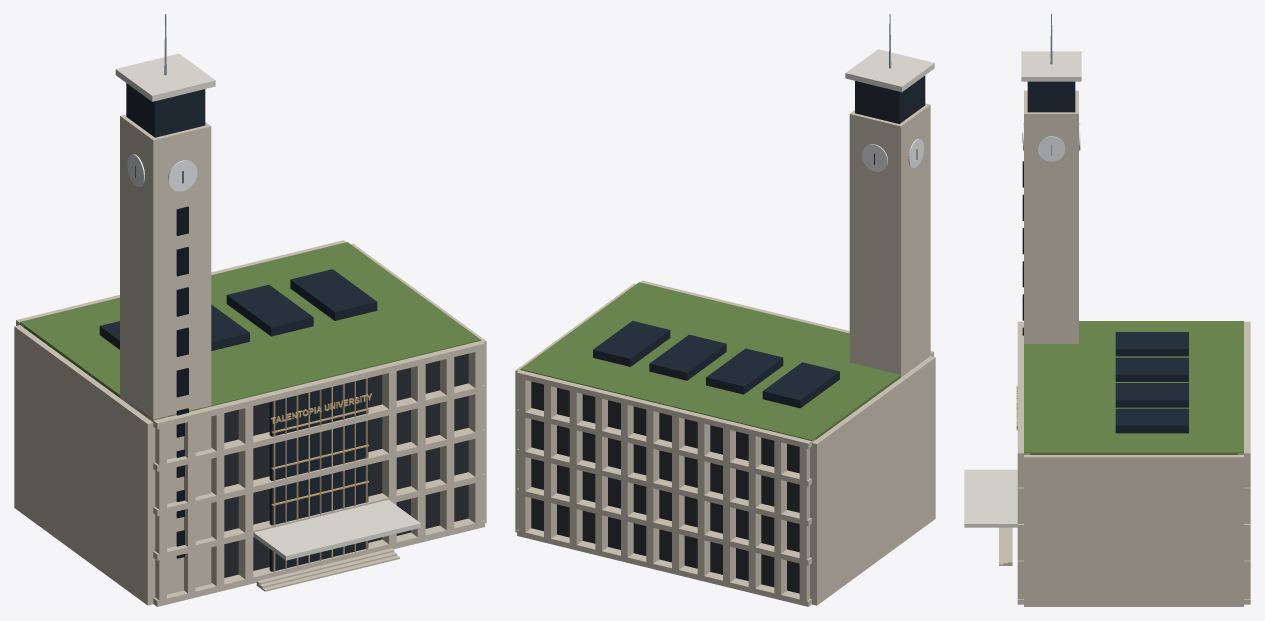
File: university.glb
3 views of the same model, side by side, from view 1: azimuth 30°, elevation 25°; view 2: azimuth 150°, elevation 25°; view 3: azimuth 270°, elevation 25° (orthographic). The views are drawn at different scales.
Visible parts, largest first — view 1: TalentopiaUniversity; view 2: TalentopiaUniversity; view 3: TalentopiaUniversity.
Boxes of the visible parts, x1,y1,x2,y2 form: TalentopiaUniversity: (14, 14, 486, 606); TalentopiaUniversity: (515, 14, 935, 606); TalentopiaUniversity: (964, 14, 1250, 606).
Size of the model in its own units: 35.2 by 56.6 by 31.2.
